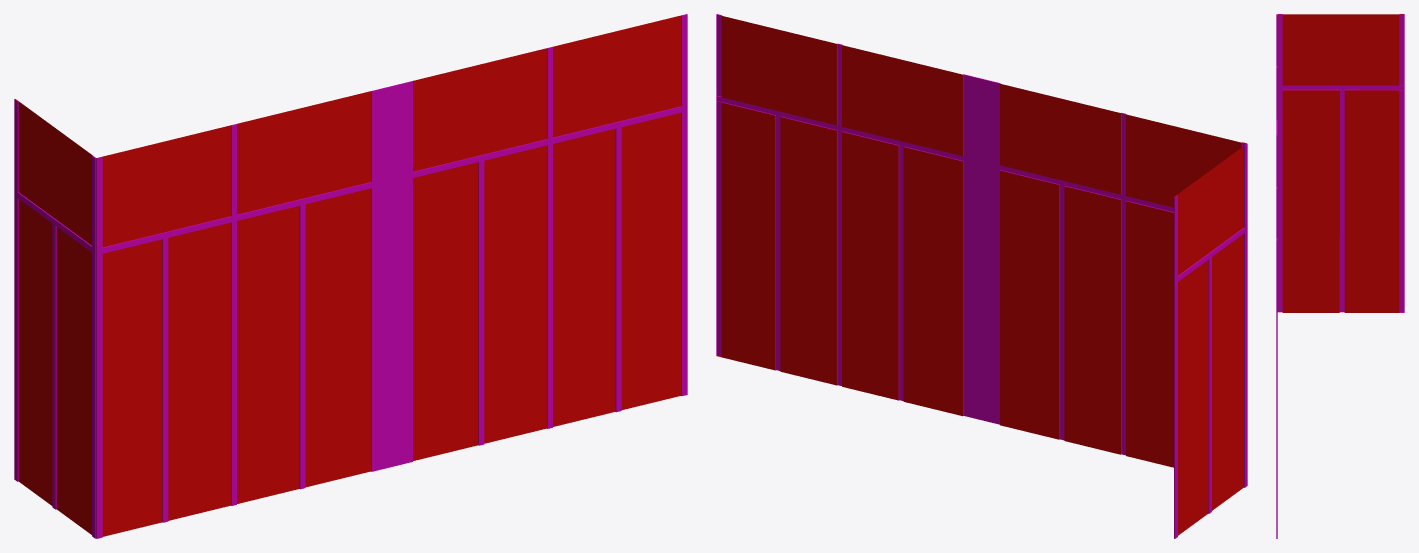
Rendered from wall_toilet.fbx.
3 renders of one model, left to right at view 1: azimuth 30°, elevation 25°; view 2: azimuth 150°, elevation 25°; view 3: azimuth 270°, elevation 25°, orthographic. The views are drawn at different scales.
Visible parts, largest first — view 1: wall_toilet; view 2: wall_toilet; view 3: wall_toilet.
Boxes of the visible parts, left/top/right/bottom form: wall_toilet: left=14, top=14, right=687, bottom=538; wall_toilet: left=716, top=14, right=1247, bottom=538; wall_toilet: left=1276, top=14, right=1404, bottom=538.
Size of the model in its own units: 651 by 400 by 156.
